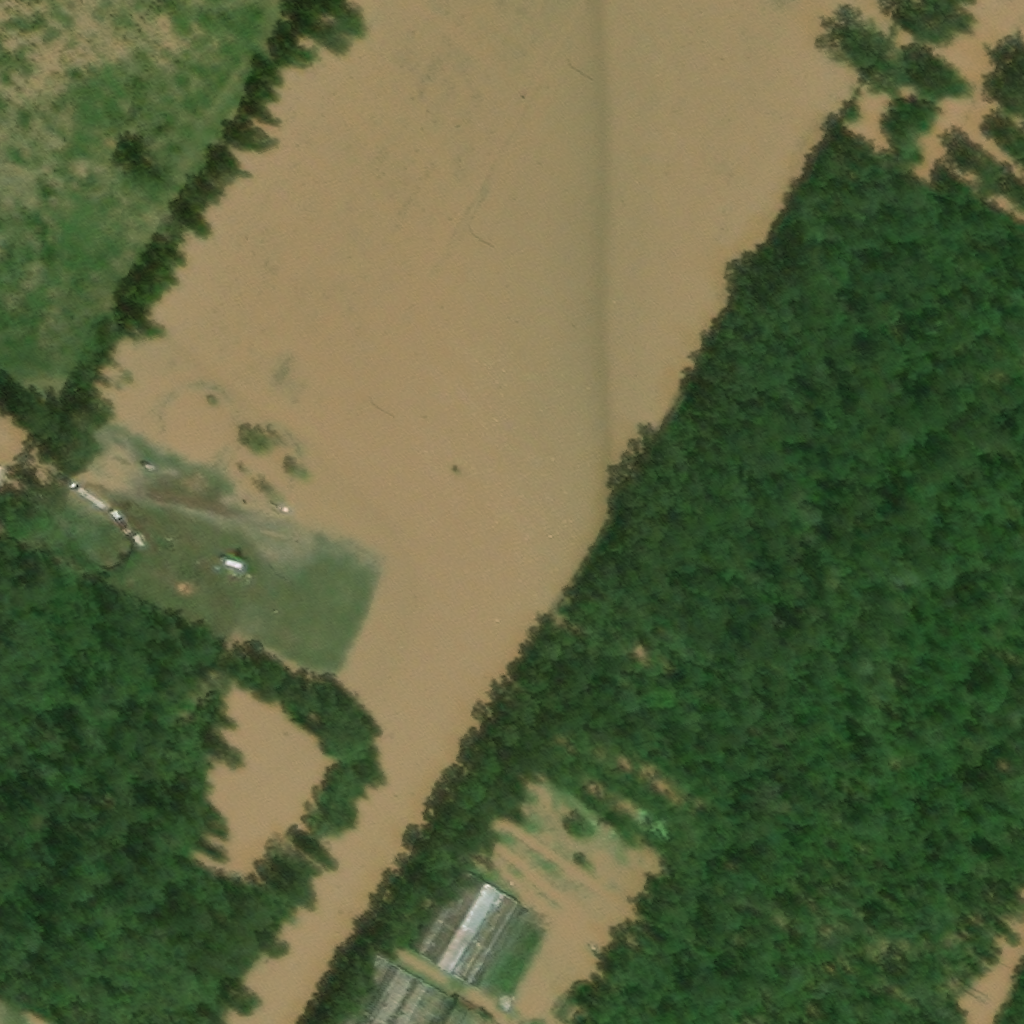minor_damage: (431, 879, 495, 975), (414, 867, 476, 962), (450, 890, 512, 985), (463, 900, 526, 990), (328, 952, 387, 1023), (351, 963, 399, 1023), (373, 973, 420, 1023), (399, 985, 435, 1023), (418, 993, 453, 1023), (444, 1002, 478, 1023)
